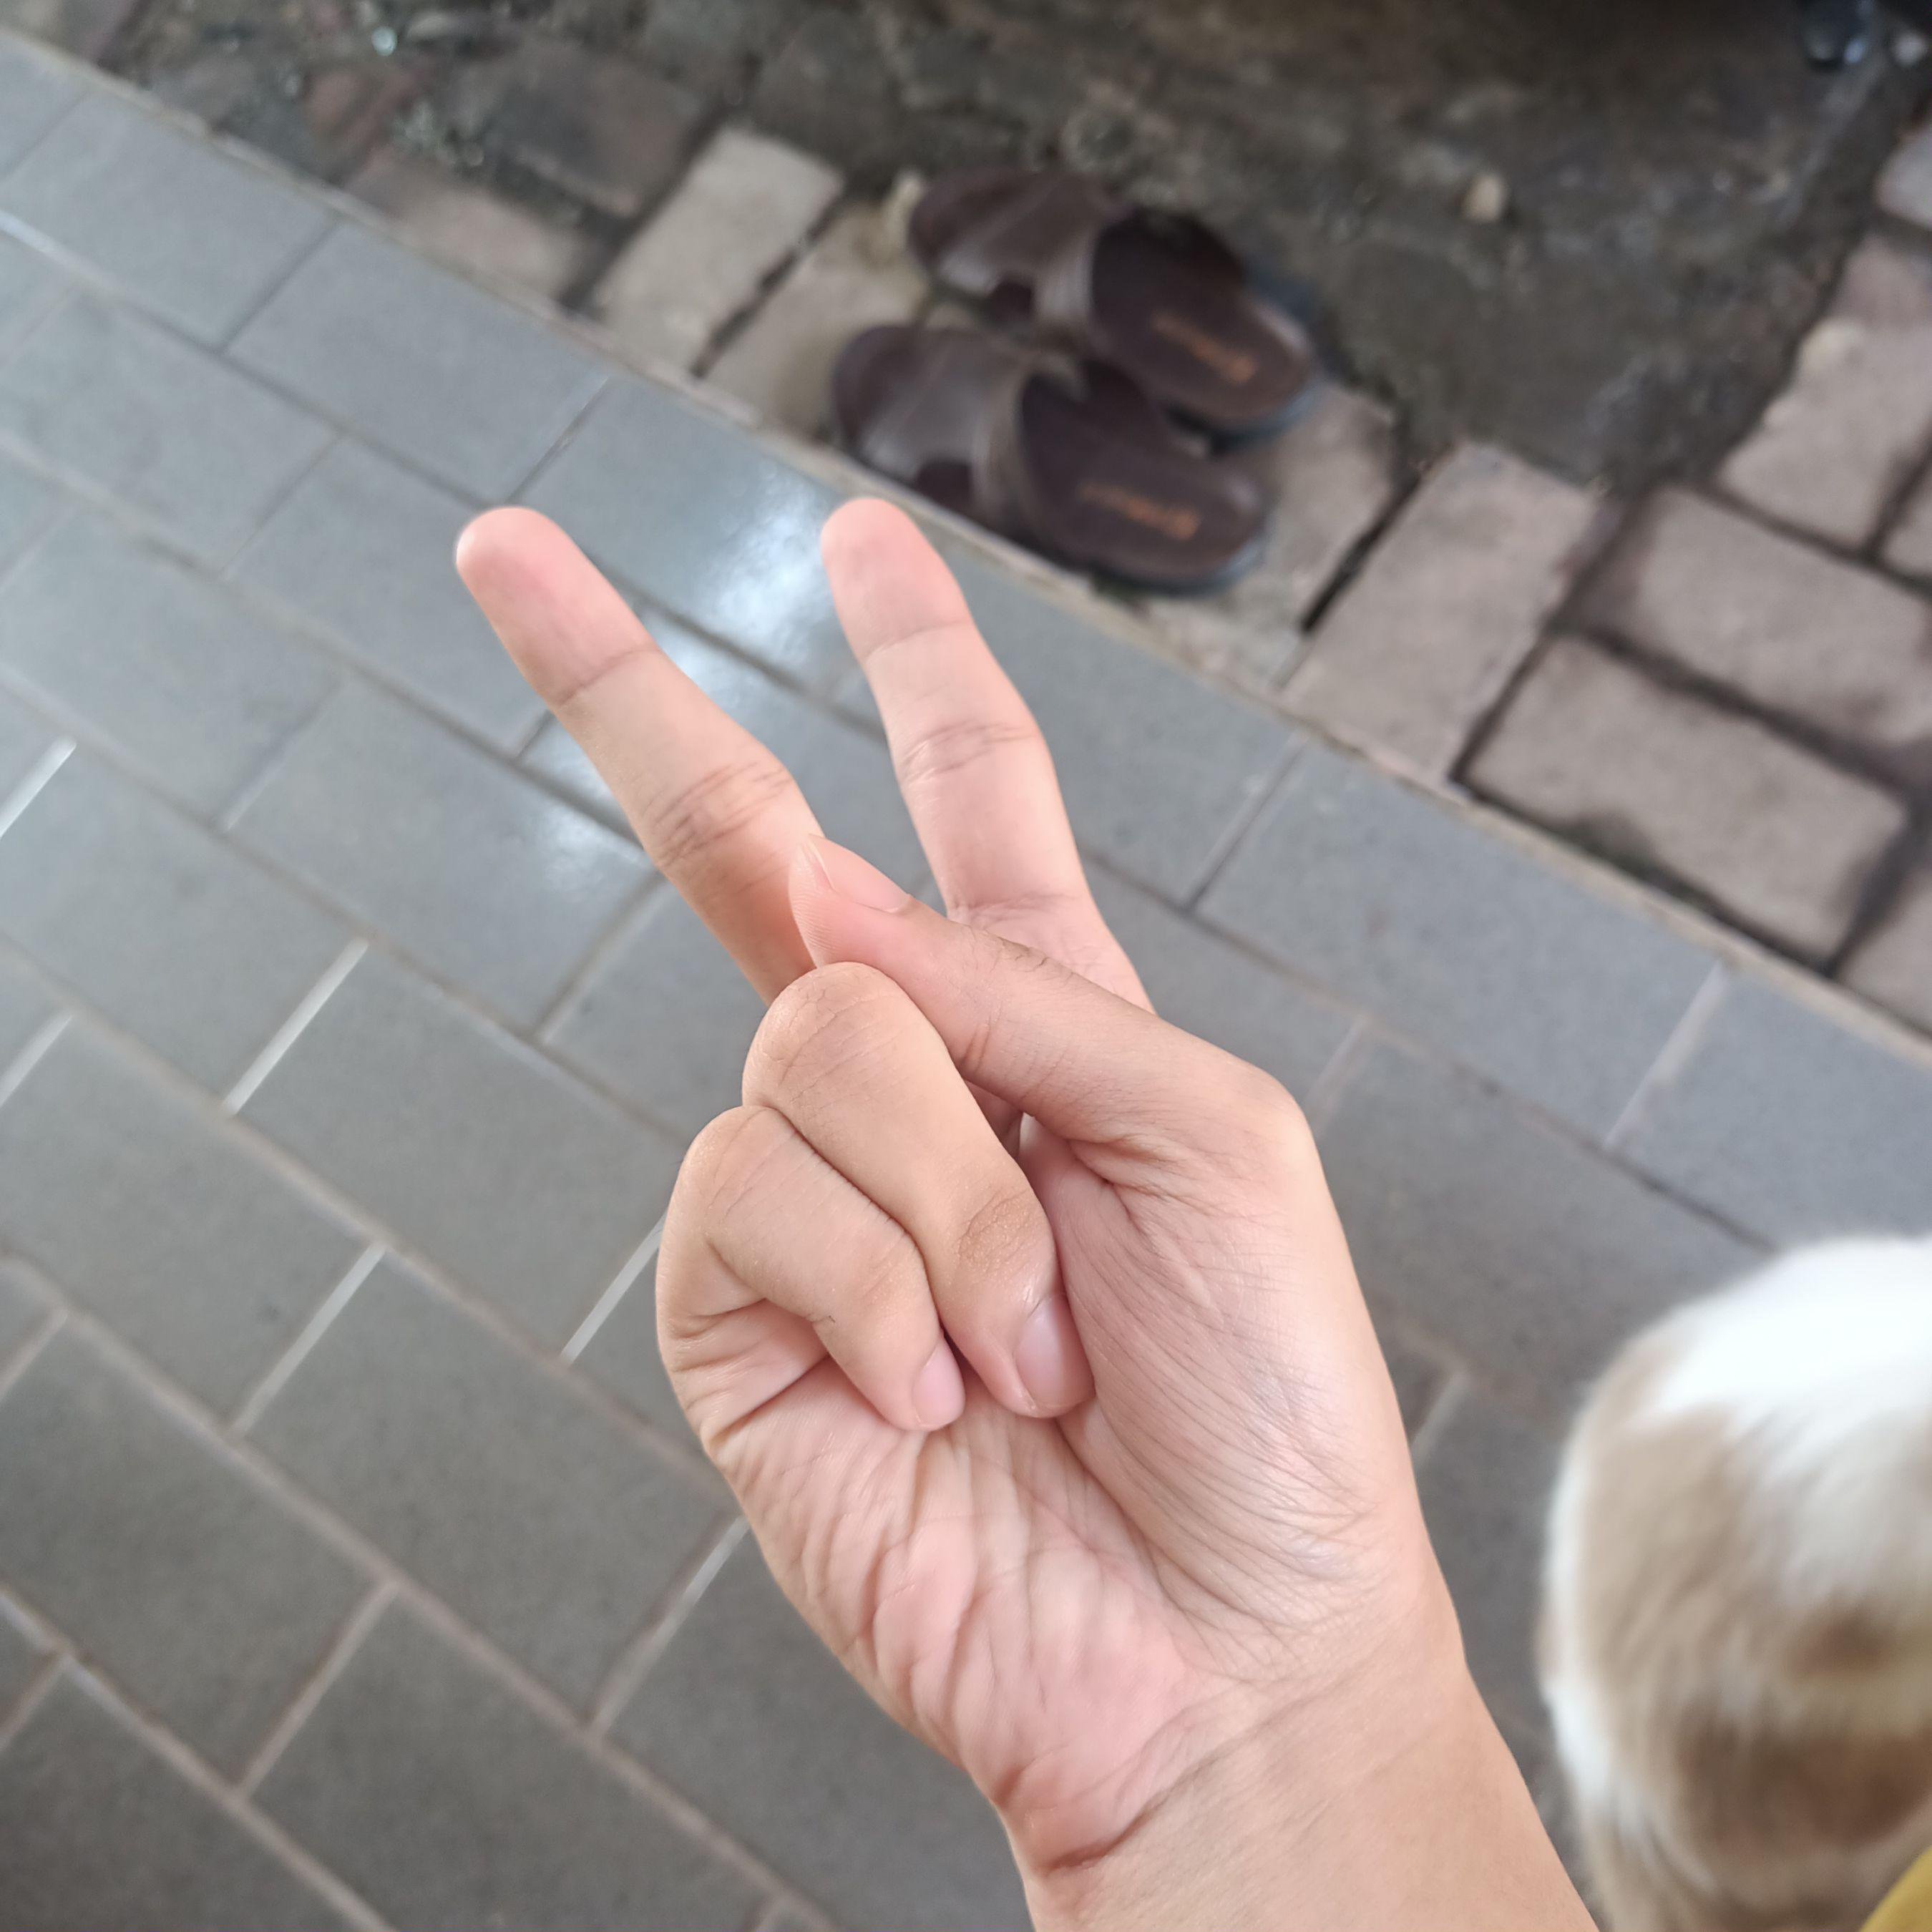scissors: (437, 471, 1481, 1868)
